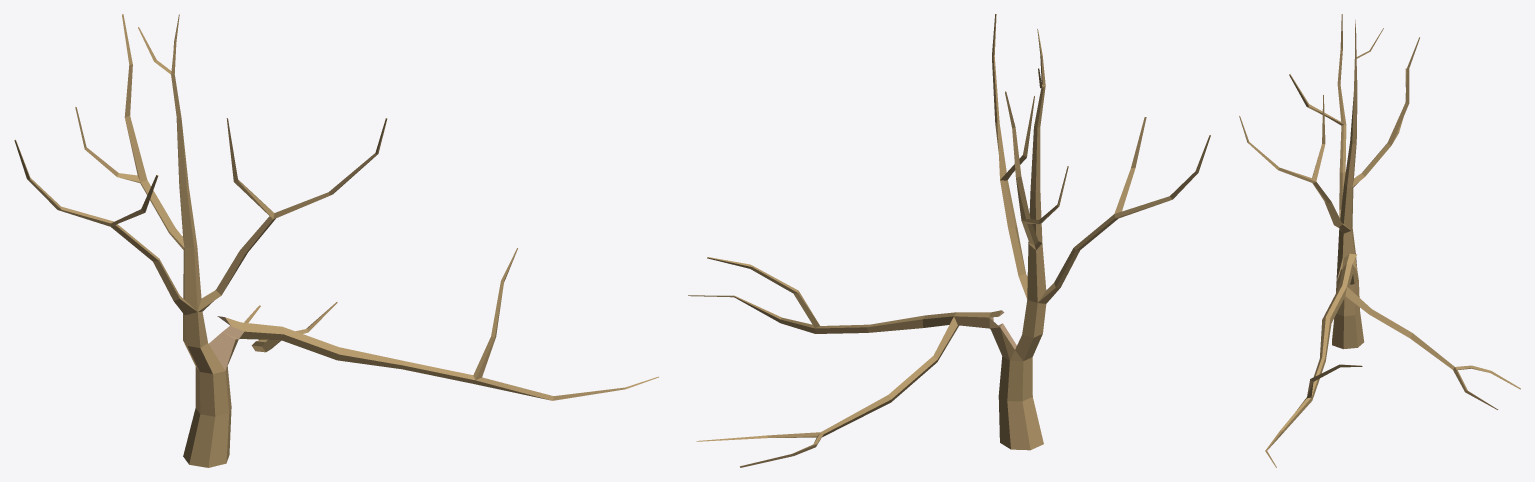
Rendered from Acacia_Tree_NoLeaves_crk_l_01.fbx.
3 views of the same model, side by side, from view 1: azimuth 30°, elevation 25°; view 2: azimuth 150°, elevation 25°; view 3: azimuth 270°, elevation 25° (orthographic). The views are drawn at different scales.
Parts seen in each view (by area): view 1: Acacia_Tree_NoLeaves_crk_l_01; view 2: Acacia_Tree_NoLeaves_crk_l_01; view 3: Acacia_Tree_NoLeaves_crk_l_01.
Part boxes in pixels (x1,y1,x2,y2): Acacia_Tree_NoLeaves_crk_l_01: (14, 14, 658, 467); Acacia_Tree_NoLeaves_crk_l_01: (688, 14, 1210, 467); Acacia_Tree_NoLeaves_crk_l_01: (1239, 14, 1520, 467).
Size of the model in its own units: 1639 by 1164 by 943.
